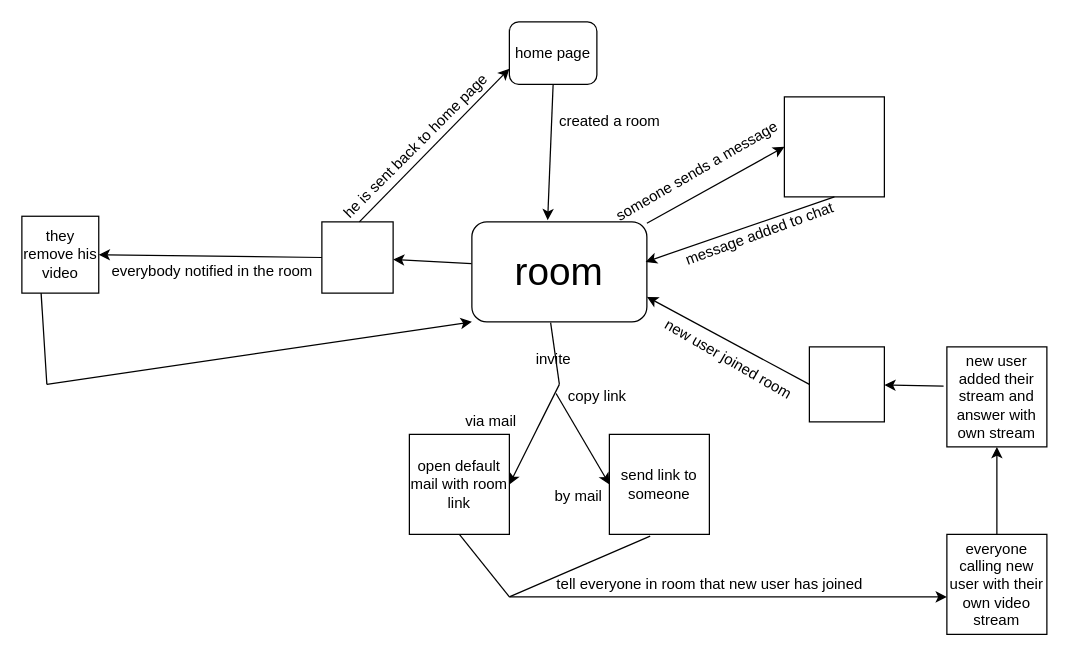
This 1069x656 diagram has some shape labels left out. Each missing label, with the box of its shape:
everyone in room added his stream: (808, 346, 884, 422)
message broadcasted to everybody in same room: (783, 96, 884, 197)
someone leaves the room: (321, 221, 393, 293)
